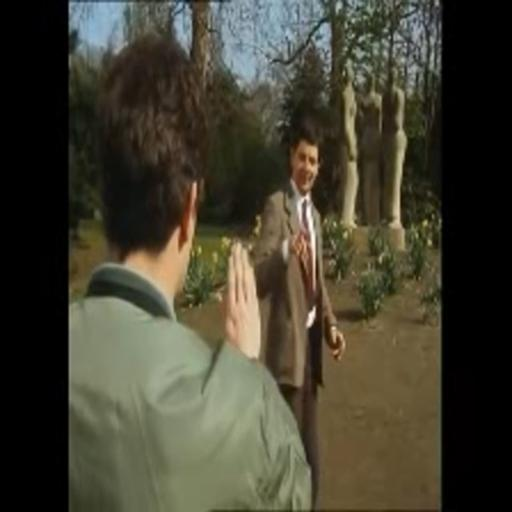nao-violencia: (67, 29, 353, 512)
